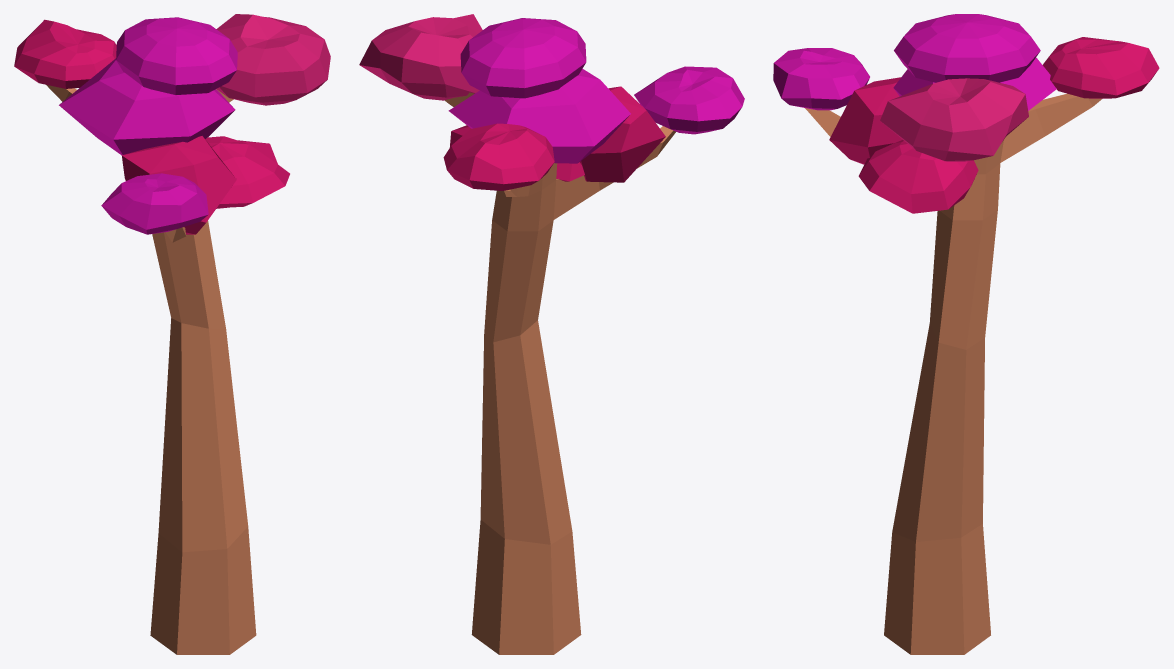
File: tree_1.fbx
3 renders of one model, left to right at view 1: azimuth 30°, elevation 25°; view 2: azimuth 150°, elevation 25°; view 3: azimuth 270°, elevation 25°, orthographic. The views are drawn at different scales.
Parts seen in each view (by area): view 1: Circle, Sphere.001, Sphere.004, Sphere.006, Sphere.002, Sphere.003, Sphere, Sphere.005; view 2: Circle, Sphere.006, Sphere.001, Sphere.004, Sphere.002, Sphere.003, Sphere, Sphere.005; view 3: Circle, Sphere.004, Sphere.006, Sphere.005, Sphere.002, Sphere.003, Sphere, Sphere.001.
Boxes of the visible parts, x1,y1,x2,y2 form: Circle: (46,84,256,654); Sphere.001: (59,58,235,155); Sphere.004: (216,14,330,105); Sphere.006: (116,17,237,94); Sphere.002: (14,19,116,88); Sphere.003: (101,173,208,234); Sphere: (121,136,236,234); Sphere.005: (205,136,289,208); Circle: (445,92,675,654); Sphere.006: (460,18,586,98); Sphere.001: (448,68,630,163); Sphere.004: (359,14,482,100); Sphere.002: (443,123,554,190); Sphere.003: (634,66,744,134); Sphere: (580,86,665,182); Sphere.005: (449,125,584,181); Circle: (805,93,1102,654); Sphere.004: (880,78,1028,161); Sphere.006: (894,14,1040,82); Sphere.005: (858,140,978,213); Sphere.002: (1043,37,1159,98); Sphere.003: (773,48,869,110); Sphere: (829,77,902,164); Sphere.001: (893,57,1056,110).
Bounding box in the file's own units: 202 × 406 × 234.
